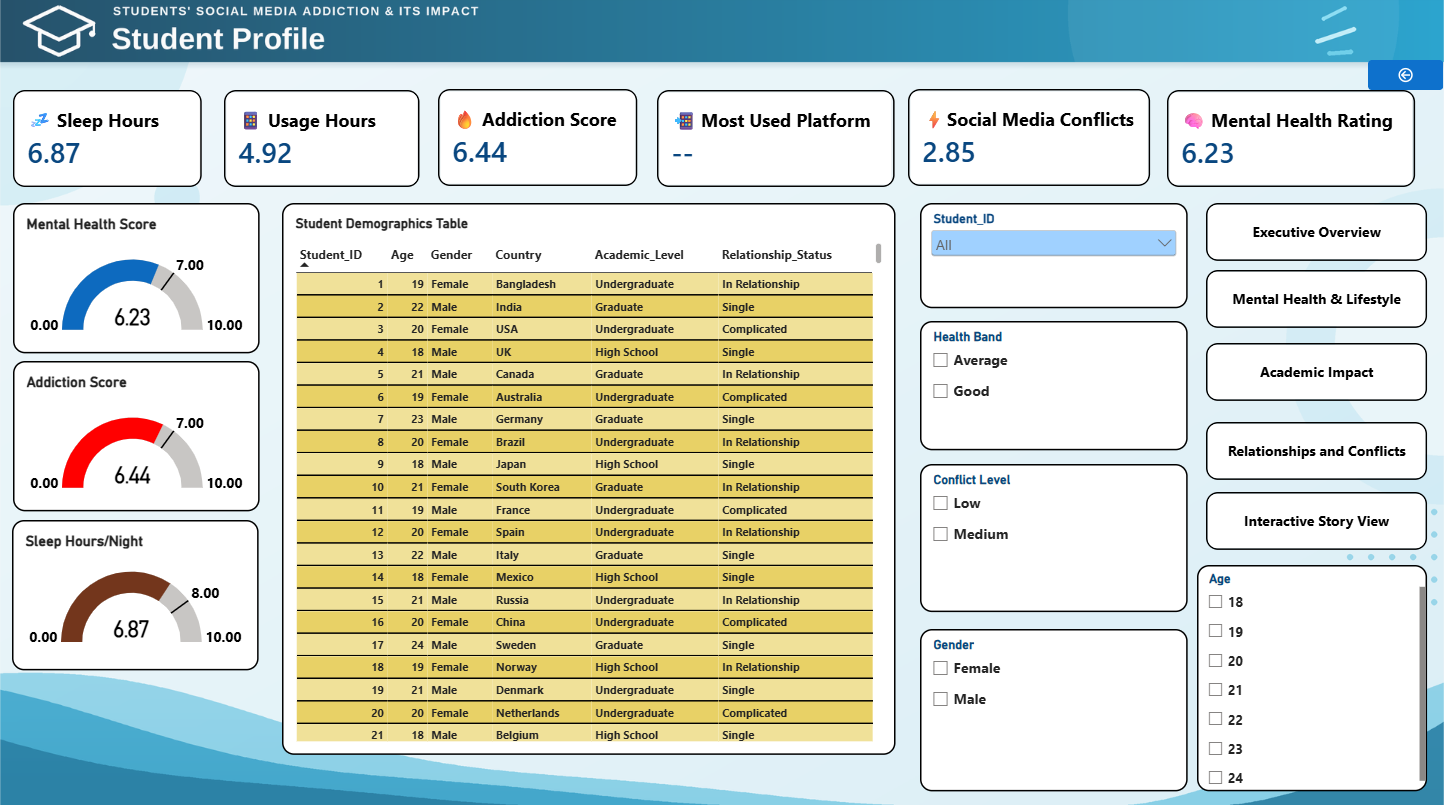

Layout of this report page (visuals, bound fields, positions):
{"tool":"powerbi","page":{"name":"Student Profile","canvas":[1920,1080],"ordinal":5},"visuals":[{"type":"actionButton","box":[1819.3,86.1,100,40],"z":0},{"type":"cardVisual","fields":{"Data":["Avg(Student Details.Sleep_Hours_Per_Night)"]},"box":[17.5,126.9,251.2,129.4],"z":1000},{"type":"cardVisual","fields":{"Data":["Avg(Student Details.Mental_Health_Score)"]},"box":[1552.3,126.9,329.8,129.4],"z":2000},{"type":"cardVisual","fields":{"Data":["Avg(Student Details.Conflicts_Over_Social_Media)"]},"box":[1208,125.5,322.1,129.4],"z":3000},{"type":"cardVisual","fields":{"Data":["_Measures.Most Used Platform"]},"box":[873.9,126.9,315.9,129.4],"z":4000},{"type":"cardVisual","fields":{"Data":["Avg(Student Details.Addicted_Score)"]},"box":[582.1,125.5,265,129.4],"z":5000},{"type":"cardVisual","fields":{"Data":["Avg(Platform Details.Avg_Daily_Usage_Hours)"]},"box":[297.6,126.9,260.4,129.4],"z":6000},{"type":"tableEx","title":"Student Demographics Table","fields":{"Values":["Student Details.Student_ID","Student Details.Age","Student Details.Gender","Student Details.Country","Student Details.Academic_Level","Student Details.Relationship_Status"]},"box":[375,277.2,815.6,733.9],"z":7000},{"type":"actionButton","box":[1603.4,366.2,294.3,77],"z":8000},{"type":"actionButton","box":[1603.4,462.5,294.3,77],"z":9000},{"type":"actionButton","box":[1603.4,567.5,294.3,77],"z":10000},{"type":"actionButton","box":[1603.4,660.9,294.3,77],"z":11000},{"type":"actionButton","box":[1603.4,277.2,294.3,77],"z":12000},{"type":"gauge","title":"Mental Health Score ","fields":{"Y":["Avg(Student Details.Mental_Health_Score)"]},"box":[17.5,277.2,328.3,199.9],"z":13000},{"type":"gauge","title":"Sleep Hours/Night","fields":{"Y":["Avg(Student Details.Sleep_Hours_Per_Night)"]},"box":[16,698.8,328.3,199.9],"z":14000},{"type":"gauge","title":"Addiction Score ","fields":{"Y":["Avg(Student Details.Addicted_Score)"]},"box":[17.5,487.3,328.3,199.9],"z":15000},{"type":"slicer","fields":{"Values":["Student Details.Student_ID"]},"box":[1224.1,277.2,356,140.1],"z":16000},{"type":"slicer","fields":{"Values":["Student Details.Health Band"]},"box":[1224.1,433.3,356,172.2],"z":17000},{"type":"slicer","fields":{"Values":["Student Details.Conflict Level"]},"box":[1224.1,624.4,356,197],"z":18000},{"type":"slicer","fields":{"Values":["Student Details.Gender"]},"box":[1224.1,843.3,356,215.9],"z":19000},{"type":"slicer","fields":{"Values":["Student Details.Age"]},"box":[1591.7,758.7,306.4,300.5],"z":20000}]}

Visuals, with their boxes in screenshot pixels (x1, y1, x2, y2), scaled from the page's 1920x1080 canvas onto the 1444x805 screenshot:
actionButton: <box>1368,64,1443,94</box>
cardVisual - Avg(Student Details.Sleep_Hours_Per_Night): <box>13,95,202,191</box>
cardVisual - Avg(Student Details.Mental_Health_Score): <box>1167,95,1415,191</box>
cardVisual - Avg(Student Details.Conflicts_Over_Social_Media): <box>909,94,1151,190</box>
cardVisual - _Measures.Most Used Platform: <box>657,95,895,191</box>
cardVisual - Avg(Student Details.Addicted_Score): <box>438,94,637,190</box>
cardVisual - Avg(Platform Details.Avg_Daily_Usage_Hours): <box>224,95,420,191</box>
"Student Demographics Table" tableEx: <box>282,207,895,754</box>
actionButton: <box>1206,273,1427,330</box>
actionButton: <box>1206,345,1427,402</box>
actionButton: <box>1206,423,1427,480</box>
actionButton: <box>1206,493,1427,550</box>
actionButton: <box>1206,207,1427,264</box>
"Mental Health Score " gauge: <box>13,207,260,356</box>
"Sleep Hours/Night" gauge: <box>12,521,259,670</box>
"Addiction Score " gauge: <box>13,363,260,512</box>
slicer - Student Details.Student_ID: <box>921,207,1188,311</box>
slicer - Student Details.Health Band: <box>921,323,1188,451</box>
slicer - Student Details.Conflict Level: <box>921,465,1188,612</box>
slicer - Student Details.Gender: <box>921,629,1188,789</box>
slicer - Student Details.Age: <box>1197,566,1428,789</box>
